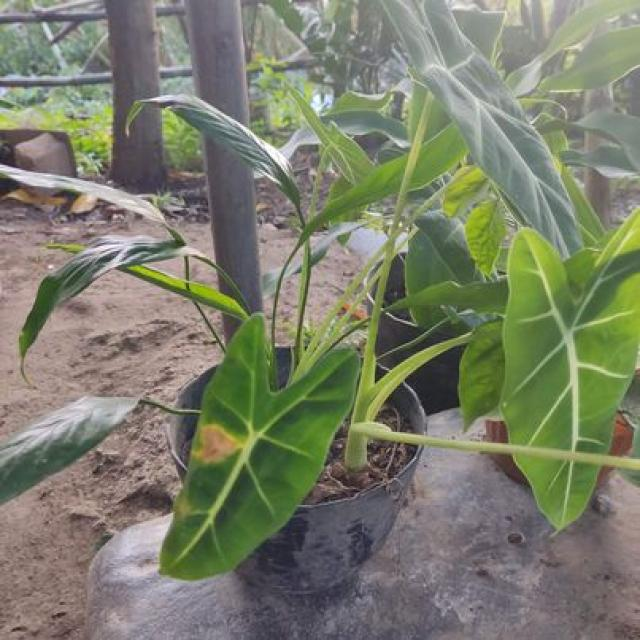blight: (190, 418, 242, 476)
